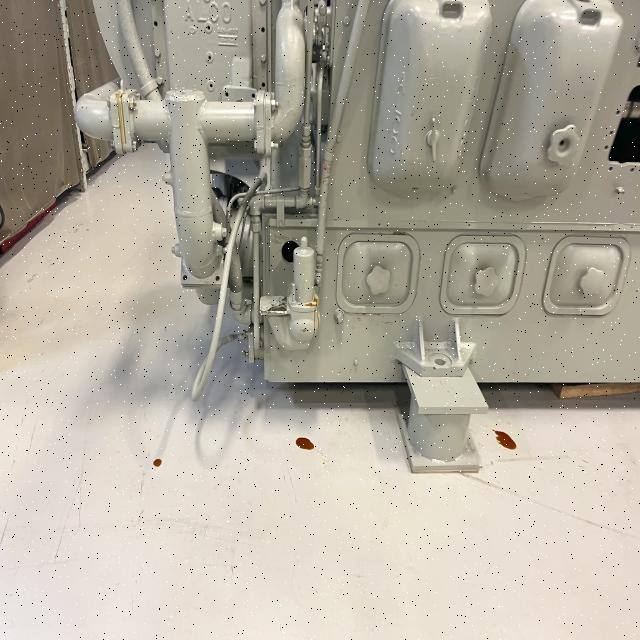Oil Leak: (109, 80, 137, 154), (287, 292, 319, 344), (493, 430, 516, 450), (296, 437, 314, 450), (153, 459, 162, 467)
